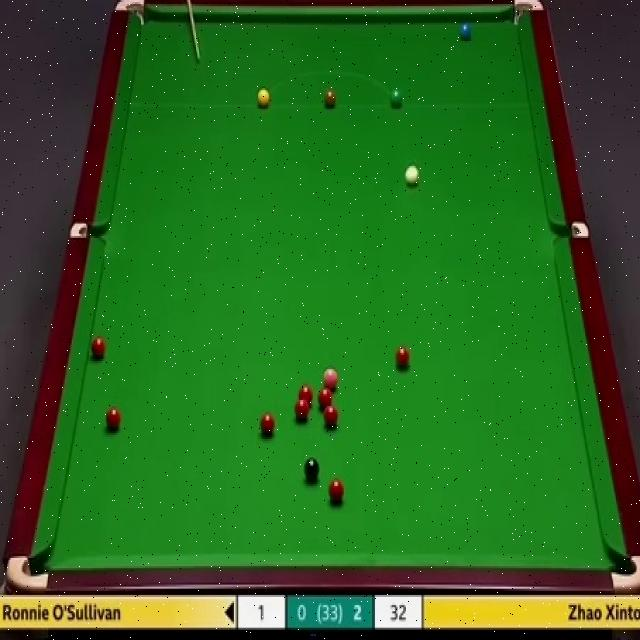black-ball: (305, 458, 321, 481)
blue-ball: (460, 21, 473, 41)
brown-ball: (324, 88, 338, 108)
green-ball: (388, 88, 404, 110)
pink-ball: (322, 364, 338, 390)
red-ball: (328, 477, 345, 503), (105, 406, 122, 431), (91, 336, 108, 361), (260, 412, 276, 438), (323, 403, 339, 427), (316, 386, 332, 409), (395, 345, 410, 368), (294, 399, 310, 420), (299, 384, 313, 407)
white-ball: (405, 163, 420, 189)
yellow-ball: (256, 88, 271, 109)
